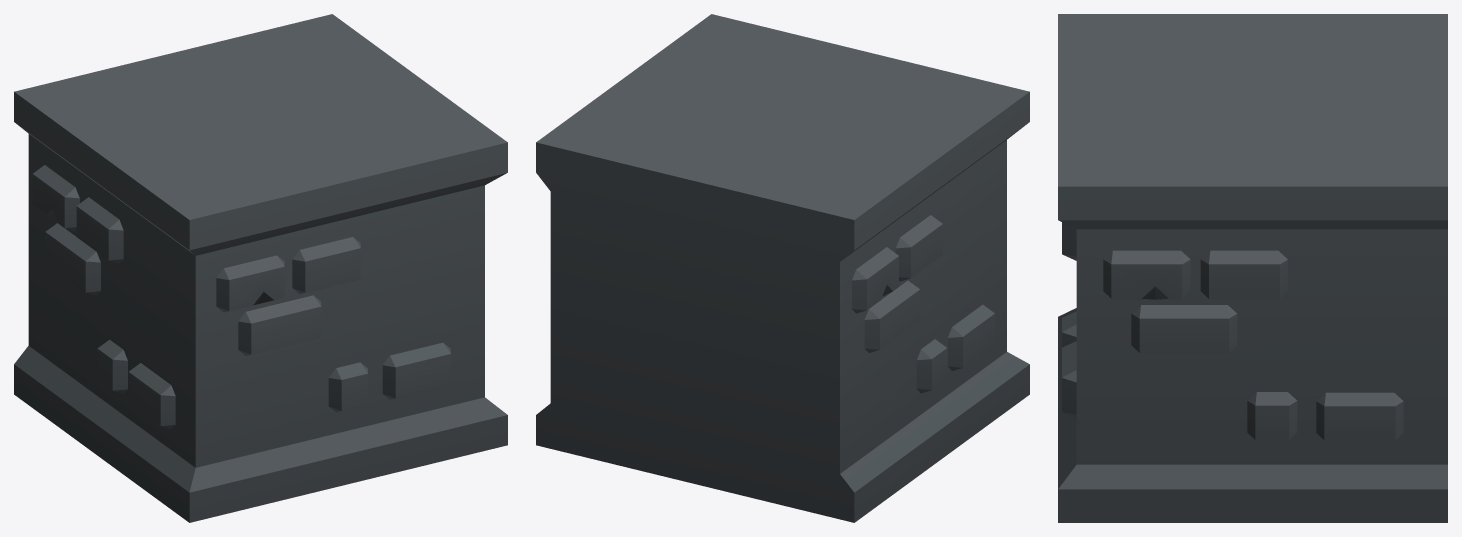
File: floor_foundation_front_and_sides.gltf
3 views of the same model, side by side, from view 1: azimuth 30°, elevation 25°; view 2: azimuth 150°, elevation 25°; view 3: azimuth 270°, elevation 25° (orthographic). The views are drawn at different scales.
Visible parts, largest first — view 1: floor_foundation_front_and_sides; view 2: floor_foundation_front_and_sides; view 3: floor_foundation_front_and_sides.
Part boxes in pixels (bbox=[...]): floor_foundation_front_and_sides: bbox=[14, 14, 507, 522]; floor_foundation_front_and_sides: bbox=[536, 14, 1029, 522]; floor_foundation_front_and_sides: bbox=[1058, 14, 1447, 522].
Bounding box in the file's own units: 2.2 × 2 × 2.1.
1 material, 1 textured.
